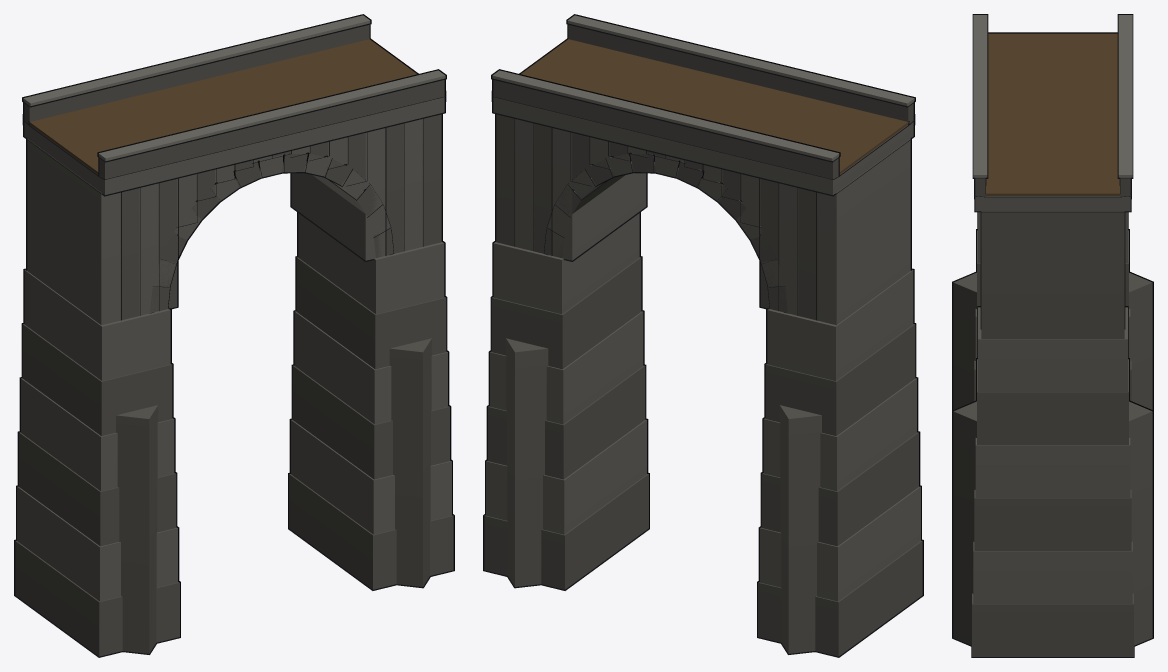
File: bridge_span.glb
The picture shows the model from 3 angles, left to right: view 1: azimuth 30°, elevation 25°; view 2: azimuth 150°, elevation 25°; view 3: azimuth 270°, elevation 25°; orthographic projection. The views are drawn at different scales.
Parts seen in each view (by area): view 1: prop; view 2: prop; view 3: prop.
Boxes of the visible parts, box(x1,y1,x2,y2) form: prop: box(14, 14, 454, 657); prop: box(483, 14, 923, 657); prop: box(952, 14, 1153, 657).
Bounding box in the file's own units: 18.85 × 25.17 × 9.59.
